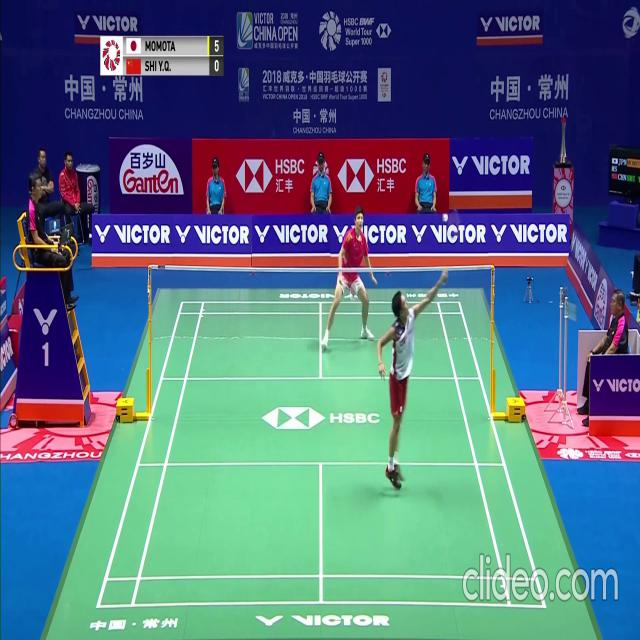Shuttlecock: (442, 214, 446, 221)
